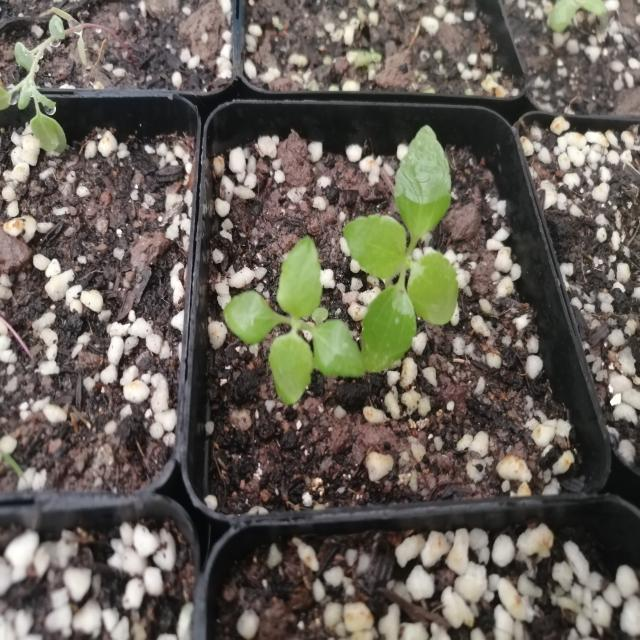billygoat_weed: (349, 116, 465, 373), (229, 236, 369, 417)
